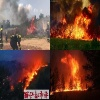fire: (53, 4, 99, 40), (50, 52, 88, 94), (19, 62, 48, 90), (26, 18, 39, 37), (11, 85, 13, 91)
